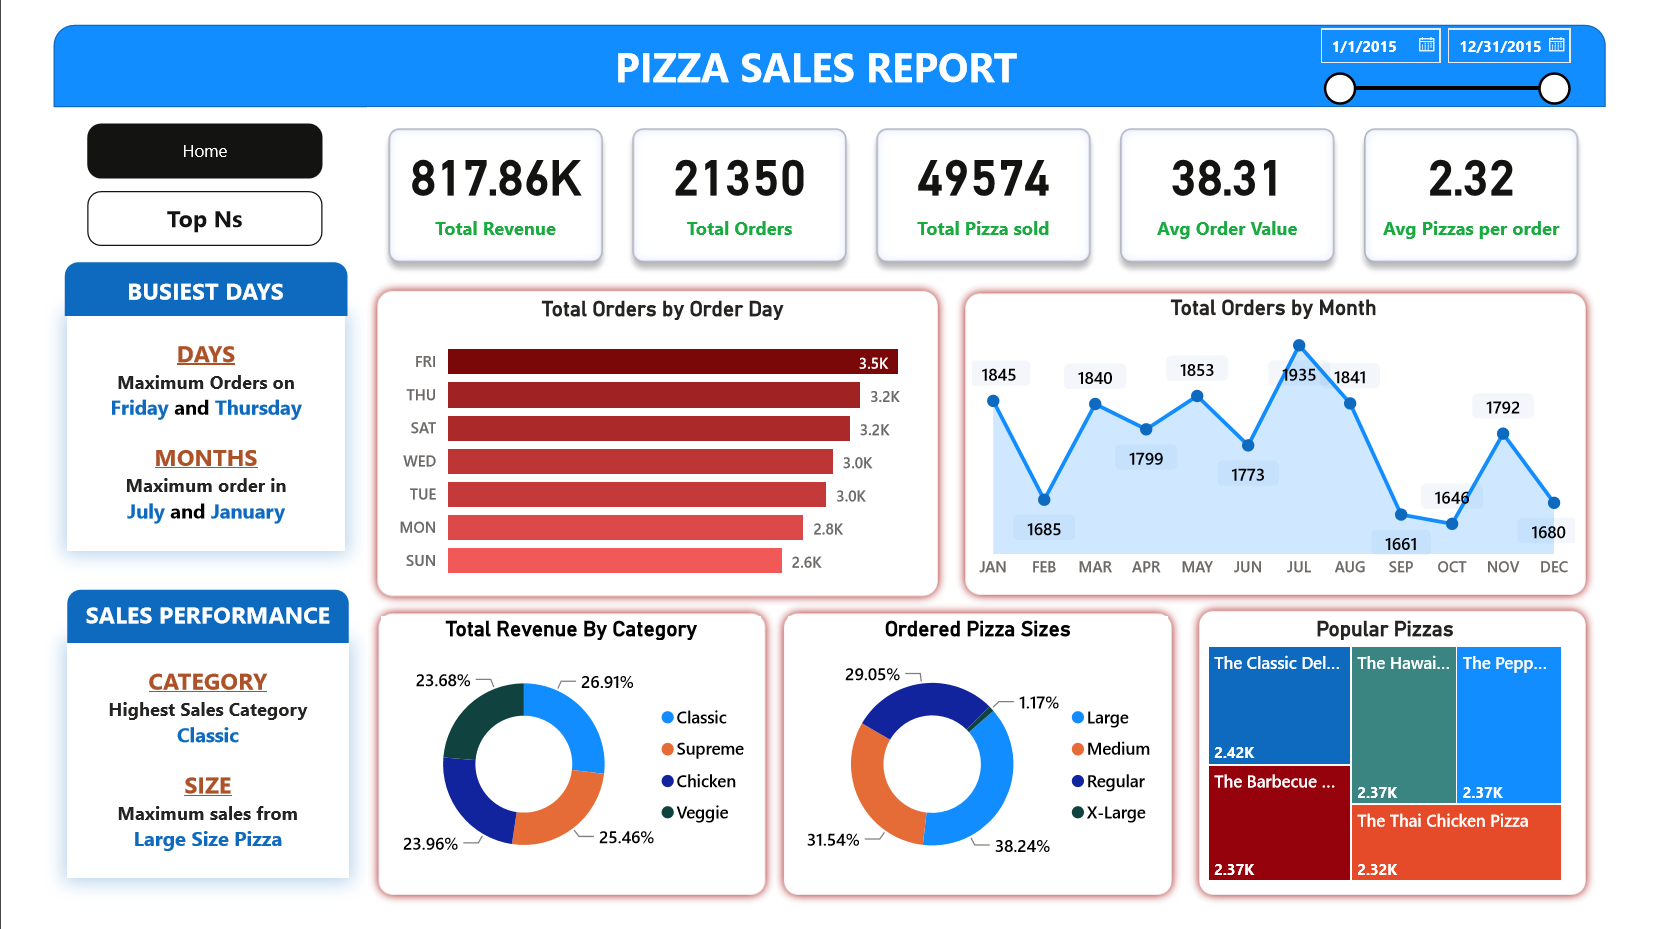

The dashboard page shown, as its layout file describes it:
{"tool":"powerbi","page":{"name":"Home","canvas":[1280,720],"ordinal":0},"visuals":[{"type":"shape","box":[17.9,15.5,1241.2,65.5],"z":0},{"type":"textbox","box":[461.9,20.5,352.2,56.7],"z":1000},{"type":"cardVisual","fields":{"Data":["Key Measures.Total Revenue","Key Measures.Total Orders","Key Measures.Total Pizza sold","Key Measures.Avg Order Value","Key Measures.Avg Pizzas per order"]},"box":[269.2,81,989.8,141.7],"z":2000},{"type":"shape","box":[269.2,220.4,463.4,259.7],"z":3000},{"type":"clusteredBarChart","fields":{"Y":["Key Measures.Total Orders"],"Category":["pizza_sales.Order Day"]},"box":[288.5,231.6,433.6,238.2],"z":4000},{"type":"shape","box":[739,221.6,512.2,257.3],"z":5000},{"type":"areaChart","title":"Total Orders by Month","fields":{"Category":["pizza_sales.Month Name"],"Y":["Key Measures.Total Orders"]},"box":[748,230.8,490.8,235.8],"z":6000},{"type":"shape","box":[269.5,478.2,325,241.2],"z":7000},{"type":"shape","box":[594.4,477.6,325.2,241.8],"z":8000},{"type":"shape","box":[925.5,476.5,325.2,243],"z":9000},{"type":"donutChart","title":"Total Revenue By Category","fields":{"Y":["Key Measures.Total Revenue"],"Category":["pizza_sales.pizza_category"]},"box":[279.9,488.4,303.7,218],"z":10000},{"type":"donutChart","title":"Ordered Pizza Sizes","fields":{"Category":["pizza_sales.Pizza Size"],"Y":["Key Measures.Total Pizza sold"]},"box":[605.1,488.4,303.7,218],"z":11000},{"type":"treemap","title":"Popular Pizzas","fields":{"Group":["pizza_sales.pizza_name"],"Values":["CountNonNull(pizza_sales.pizza_category)"]},"box":[936.2,488,292.3,217.4],"z":12000},{"type":"shape","box":[27.4,204.9,225.1,42.9],"z":13000},{"type":"textbox","box":[28.6,247.8,222.7,188.2],"z":14000},{"type":"textbox","box":[63.1,209.6,152.5,42.9],"z":15000},{"type":"shape","box":[28.6,466.9,225.1,42.9],"z":16000},{"type":"textbox","box":[28.6,509.8,225.1,188.2],"z":17000},{"type":"textbox","box":[33.4,469.3,216.8,42.9],"z":18000},{"type":"pageNavigator","box":[45.3,94.1,188.2,44.1],"z":19000},{"type":"pageNavigator","box":[45.3,147.7,188.2,44.1],"z":20000},{"type":"slicer","fields":{"Values":["pizza_sales.order_date"]},"box":[1018.4,8.3,220.4,81],"z":21000}]}

Visuals, with their boxes in screenshot pixels (x1, y1, x2, y2), scaled from the page's 1280x720 canvas onto the 1660x929 screenshot:
shape: 23,20,1633,105
textbox: 599,26,1056,100
cardVisual - Key Measures.Total Revenue x Key Measures.Total Orders: 349,105,1633,287
shape: 349,284,950,619
clusteredBarChart - Key Measures.Total Orders x pizza_sales.Order Day: 374,299,936,606
shape: 958,286,1623,618
"Total Orders by Month" areaChart: 970,298,1607,602
shape: 350,617,771,928
shape: 771,616,1193,928
shape: 1200,615,1622,928
"Total Revenue By Category" donutChart: 363,630,757,911
"Ordered Pizza Sizes" donutChart: 785,630,1179,911
"Popular Pizzas" treemap: 1214,630,1593,910
shape: 36,264,327,320
textbox: 37,320,326,563
textbox: 82,270,280,326
shape: 37,602,329,658
textbox: 37,658,329,901
textbox: 43,606,324,661
pageNavigator: 59,121,303,178
pageNavigator: 59,191,303,247
slicer - pizza_sales.order_date: 1321,11,1607,115
